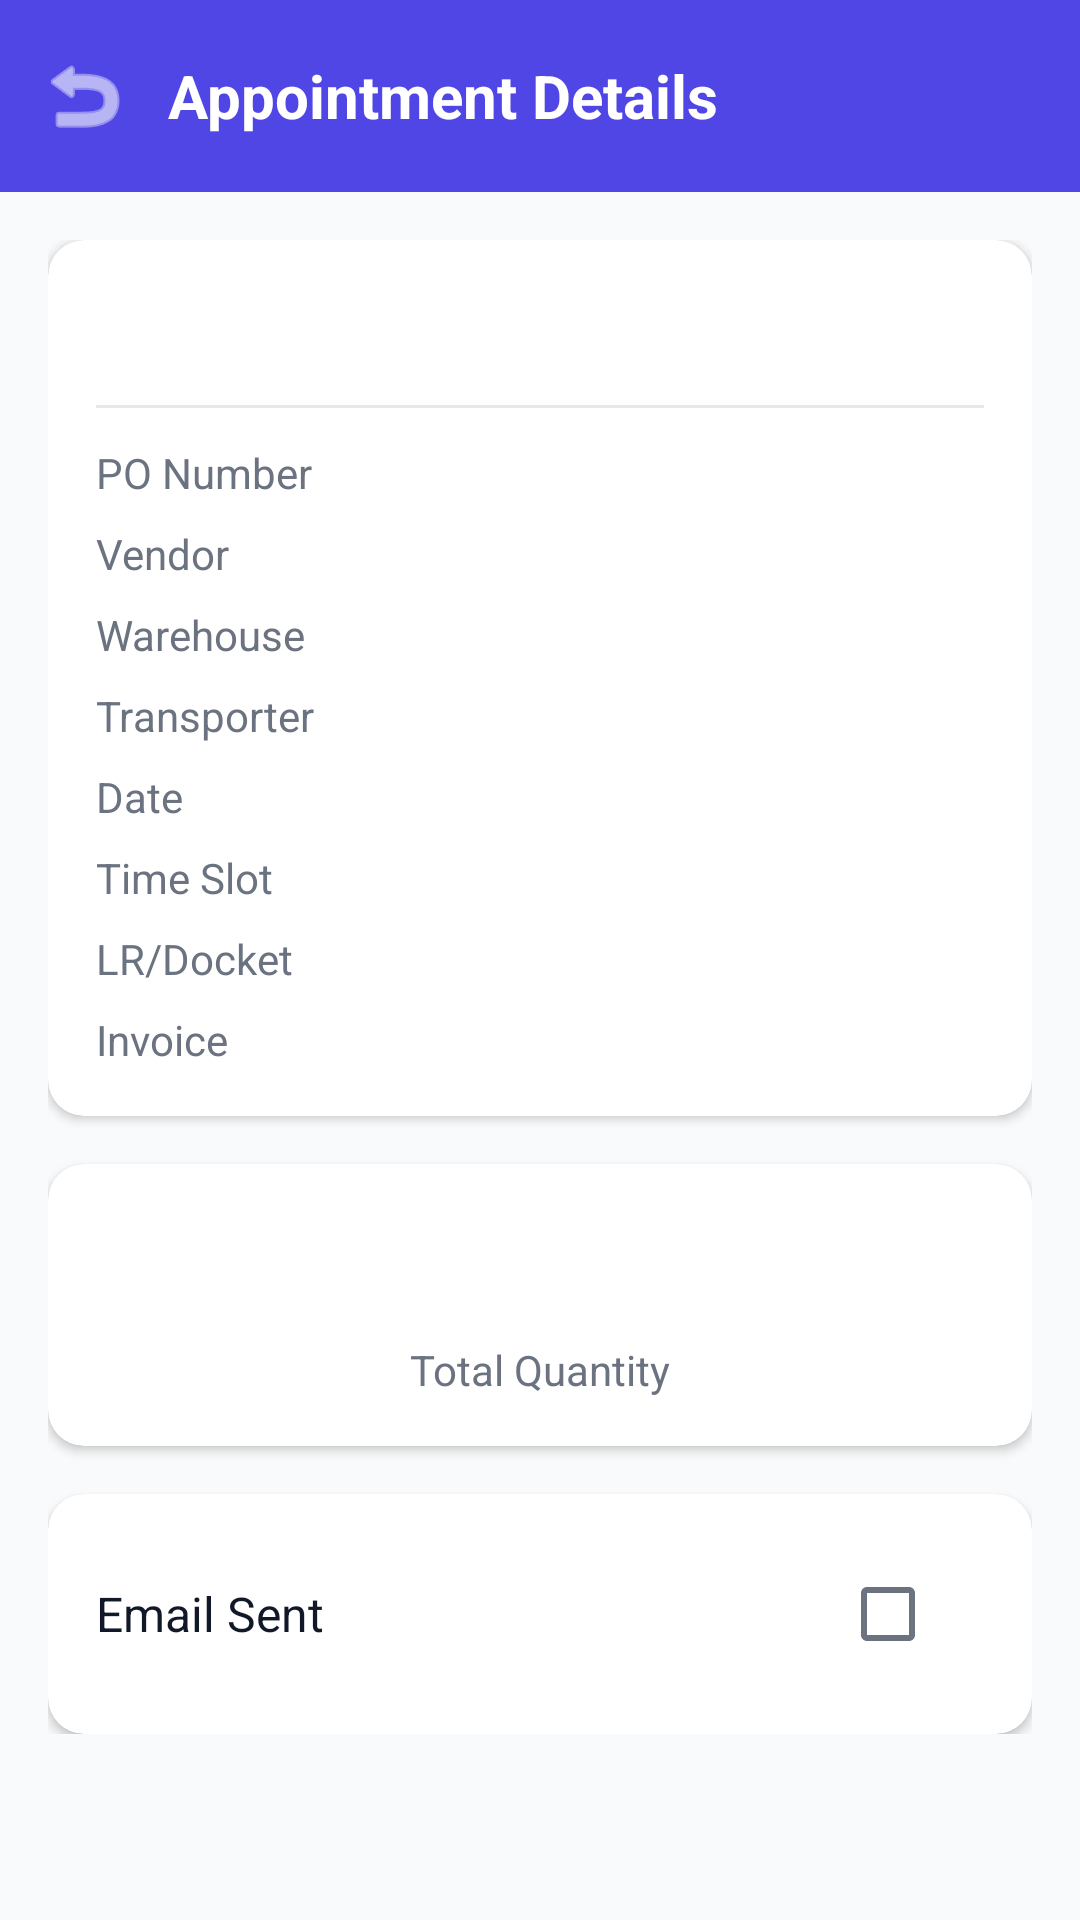

Screen size 1080 × 1920. Icon name, then its box in pixels as (x1, y1, x2, y2):
revert: (51, 65, 120, 128)
